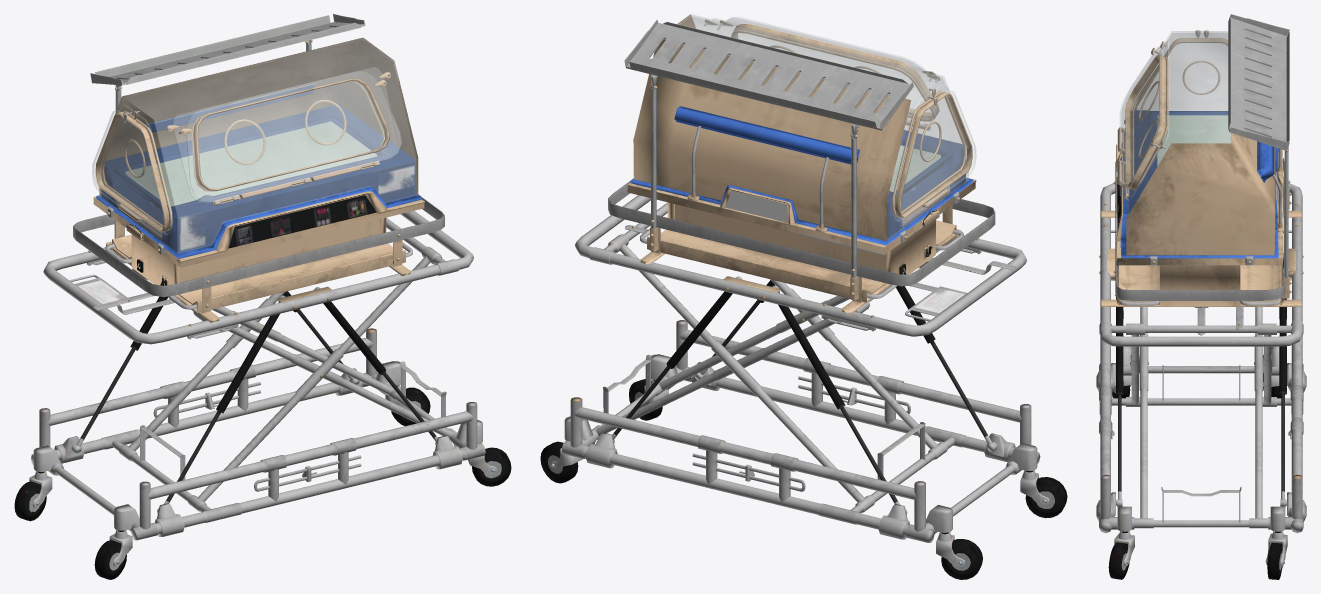
Rendered from incubator-transformed.glb.
The picture shows the model from 3 angles, left to right: view 1: azimuth 30°, elevation 25°; view 2: azimuth 150°, elevation 25°; view 3: azimuth 270°, elevation 25°; orthographic projection. The views are drawn at different scales.
Visible parts, largest first — view 1: AttVerinA_low_blinn2_0, VitreExt_low_blinn1_0, Lampe_low_lambert1_0; view 2: AttVerinA_low_blinn2_0, VitreExt_low_blinn1_0; view 3: AttVerinA_low_blinn2_0, VitreExt_low_blinn1_0.
Part boxes in pixels (left/top/right/bottom): AttVerinA_low_blinn2_0: left=14, top=14, right=511, bottom=579; VitreExt_low_blinn1_0: left=92, top=38, right=417, bottom=253; Lampe_low_lambert1_0: left=141, top=84, right=315, bottom=134; AttVerinA_low_blinn2_0: left=540, top=14, right=1067, bottom=579; VitreExt_low_blinn1_0: left=665, top=14, right=976, bottom=239; AttVerinA_low_blinn2_0: left=1096, top=14, right=1306, bottom=579; VitreExt_low_blinn1_0: left=1120, top=31, right=1230, bottom=216.
Bounding box in the file's own units: 120 × 121 × 54.9.
Materials: 3 (3 with a texture image).
